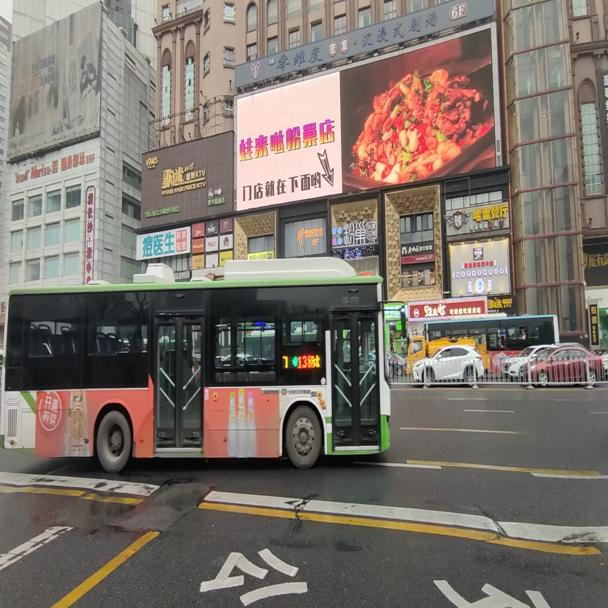bus: (1, 257, 407, 474)
screen: (297, 353, 311, 370)
